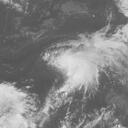cyclone: (40, 41, 98, 92)
